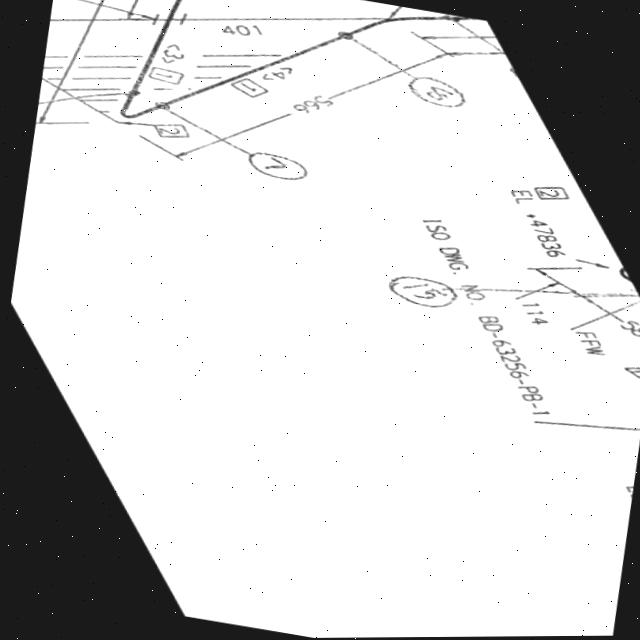Item number: (110, 0, 485, 123), (224, 76, 271, 100), (144, 65, 185, 87), (529, 183, 572, 203), (148, 122, 192, 139)
Measrement: (161, 49, 455, 166), (518, 268, 640, 345)
Weld number: (378, 268, 460, 316), (400, 71, 470, 113), (241, 147, 312, 185)
other: (408, 216, 557, 421), (507, 187, 572, 264)
